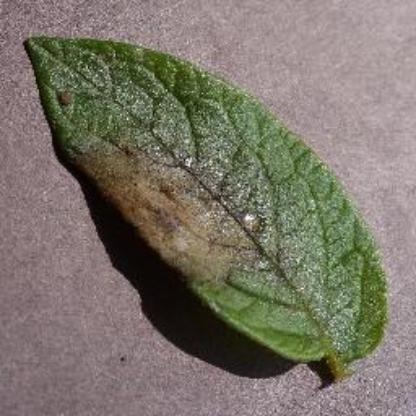Late-Blight: (18, 13, 414, 401)
